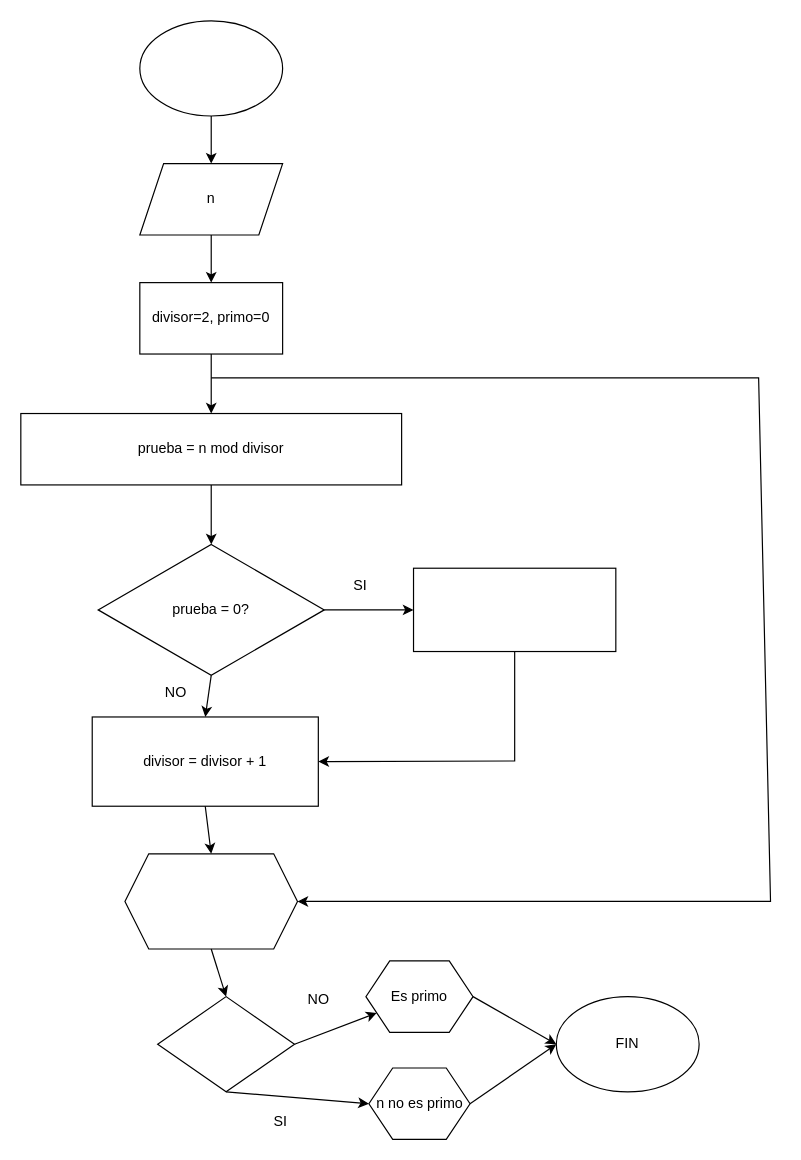
The diagram is 801 pixels wide and 1160 high, and some of its shapes have lost their labels. The centre of each missing label's shape, as x and y in pixels:
"hasta n = divisor" goes at [211,901].
"inicio" goes at [211,68].
"primo = 0?" goes at [225,1043].
"primo = primo + 1" goes at [514,609].
